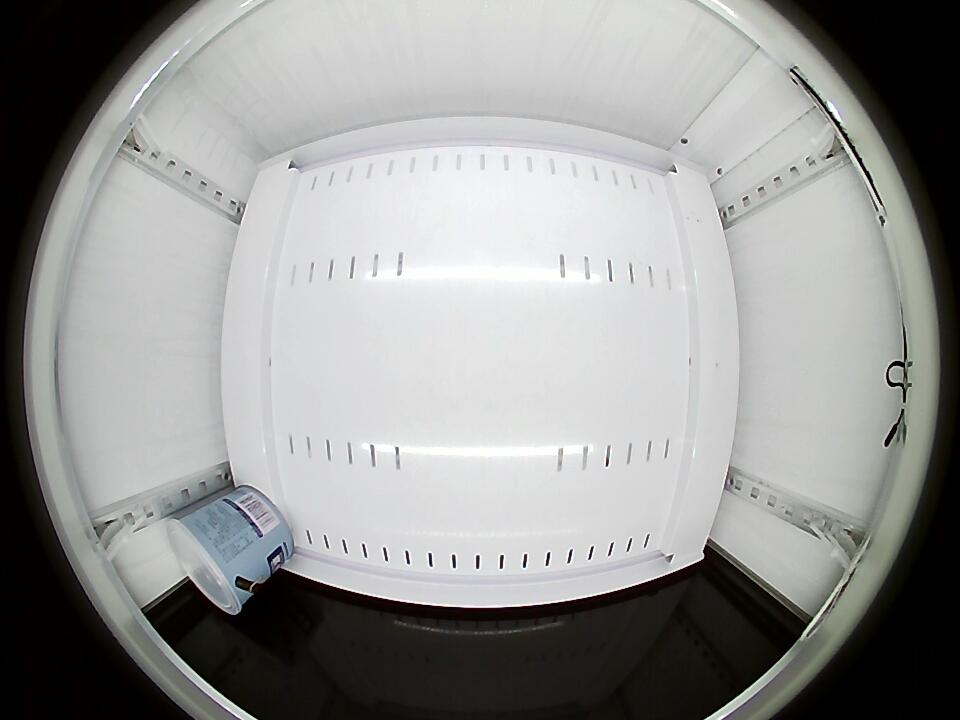haitai: (167, 509, 258, 617)
